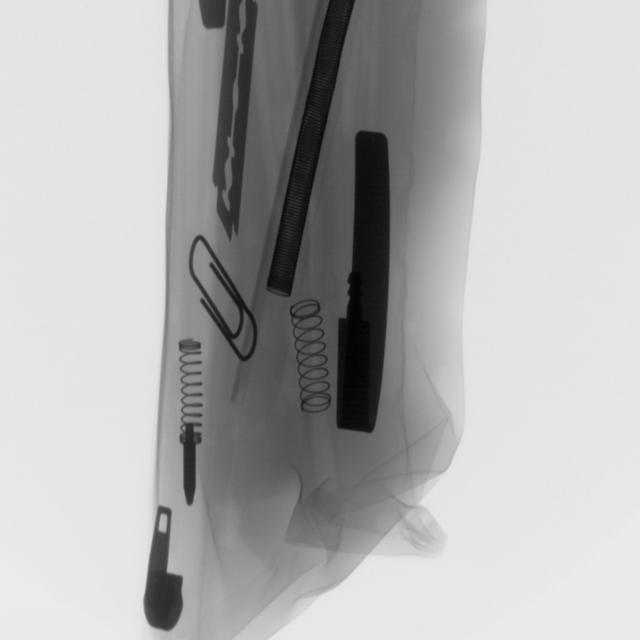pin: (192, 226, 264, 368)
razor: (204, 3, 264, 242)
